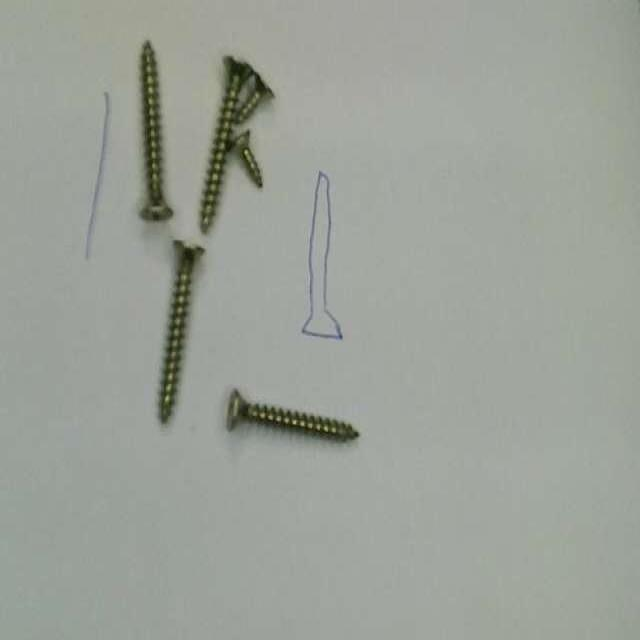Parafuso: (200, 56, 249, 233), (160, 240, 204, 422), (227, 390, 358, 441), (140, 40, 172, 221), (234, 68, 274, 125), (231, 131, 262, 187)
